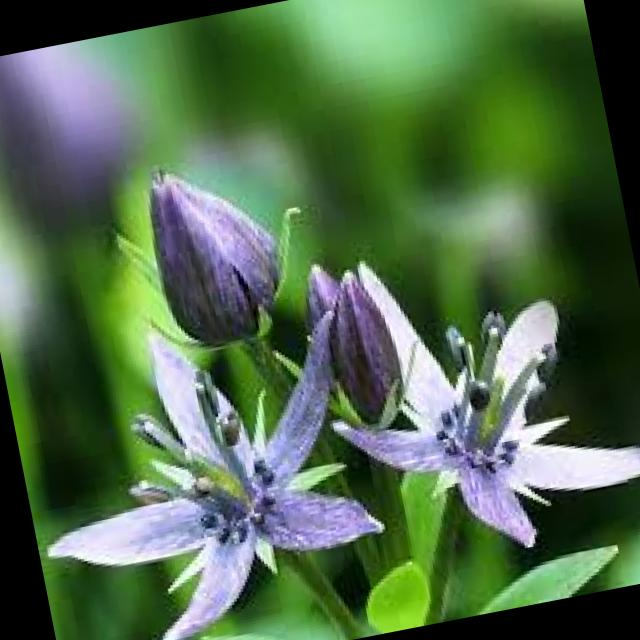Chirata: (152, 179, 640, 640), (18, 291, 573, 640), (56, 114, 414, 410), (386, 303, 640, 564)
